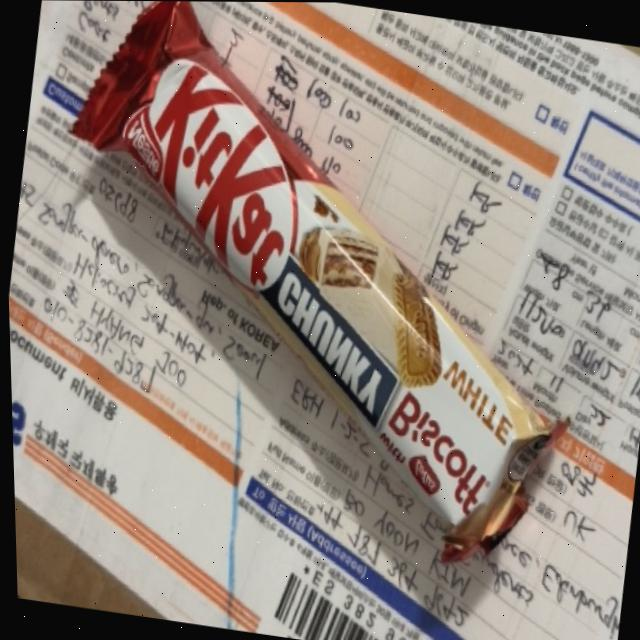chocolate: (10, 0, 635, 587)
